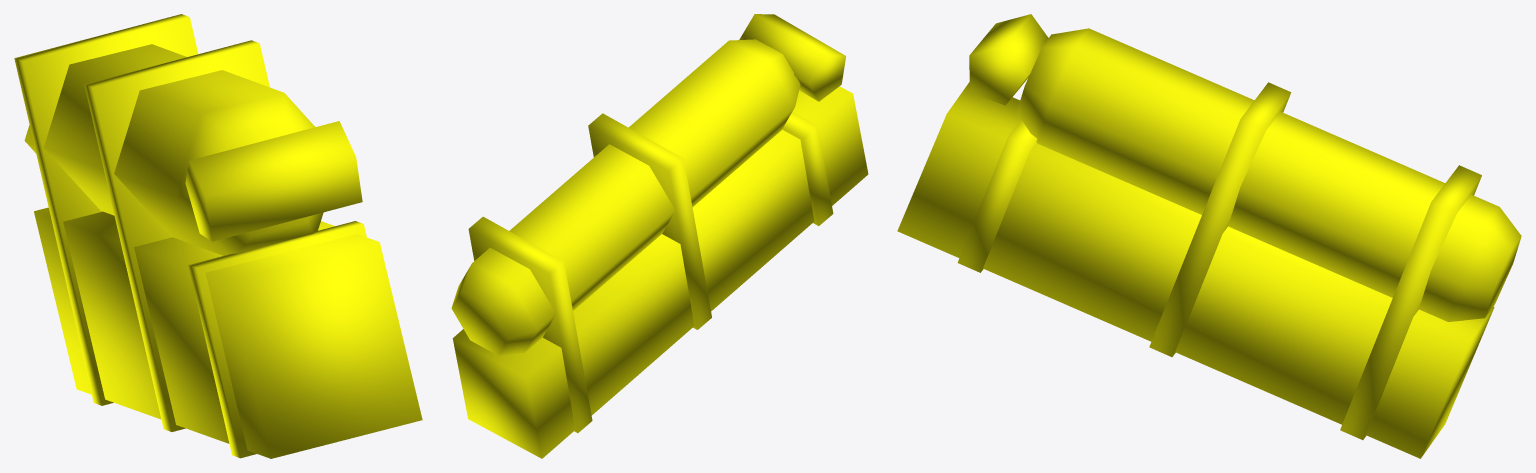
File: scabbard_RModel.glb
The picture shows the model from 3 angles, left to right: view 1: azimuth 30°, elevation 25°; view 2: azimuth 150°, elevation 25°; view 3: azimuth 270°, elevation 25°; orthographic projection. The views are drawn at different scales.
Parts seen in each view (by area): view 1: scabbard_R; view 2: scabbard_R; view 3: scabbard_R.
Boxes of the visible parts, bbox=[...] form: scabbard_R: bbox=[14, 14, 422, 458]; scabbard_R: bbox=[451, 14, 868, 458]; scabbard_R: bbox=[897, 14, 1521, 458].
Bounding box in the file's own units: 0.2301 × 0.3505 × 0.5439.
1 material, 1 textured.
